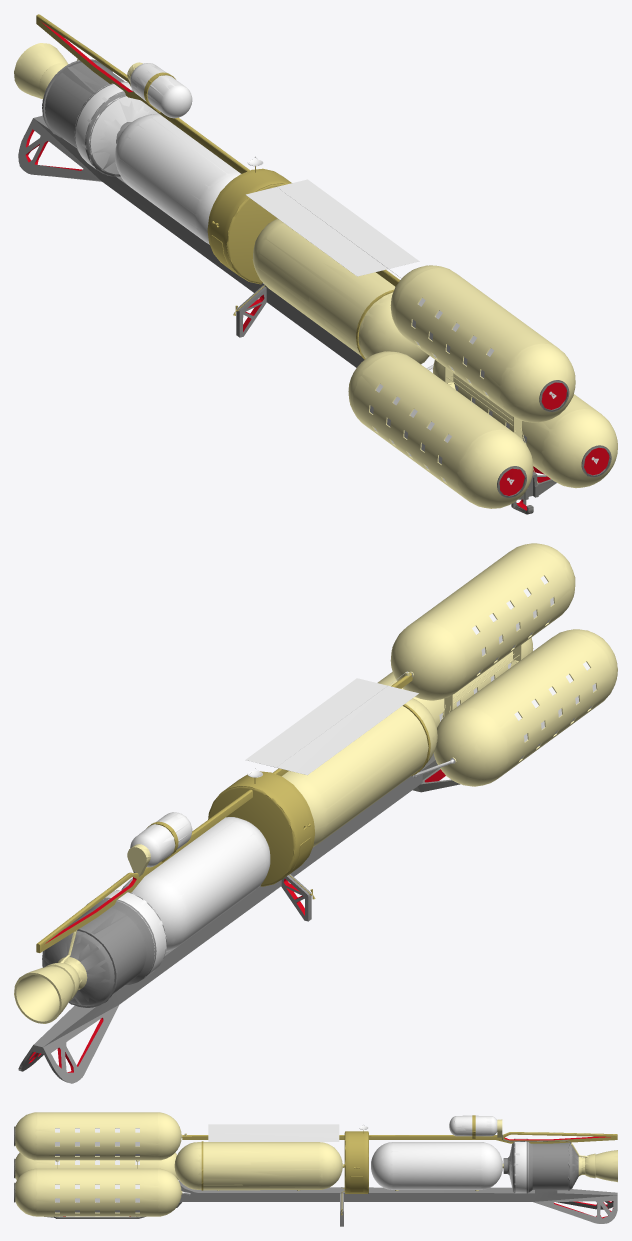
File: NuclearPodShip.glb
The picture shows the model from 3 angles, top to bottom: view 1: azimuth 30°, elevation 25°; view 2: azimuth 150°, elevation 25°; view 3: azimuth 270°, elevation 25°; orthographic projection. The views are drawn at different scales.
Visible parts, largest first — view 1: NuclearPodShip, NuclearPodShip_LOD0; view 2: NuclearPodShip, NuclearPodShip_LOD0; view 3: NuclearPodShip, NuclearPodShip_LOD0.
Part boxes in pixels (bbox=[...]): NuclearPodShip: bbox=[14, 14, 617, 514]; NuclearPodShip_LOD0: bbox=[14, 14, 617, 514]; NuclearPodShip: bbox=[14, 543, 617, 1083]; NuclearPodShip_LOD0: bbox=[14, 543, 617, 1083]; NuclearPodShip: bbox=[14, 1112, 617, 1226]; NuclearPodShip_LOD0: bbox=[14, 1112, 617, 1223].
Size of what is drawn, in the model's own units: 17.5 by 18.68 by 101.
